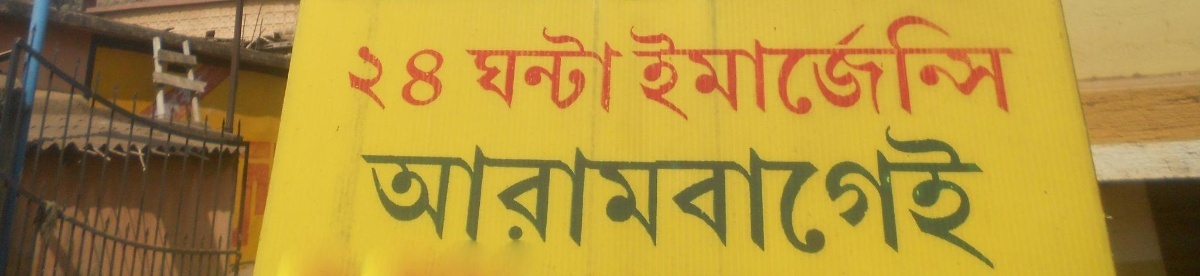text: (369, 119, 384, 269), (385, 119, 400, 269), (401, 119, 416, 269), (417, 119, 432, 269), (433, 119, 448, 269), (449, 119, 464, 269), (465, 119, 480, 269), (481, 119, 496, 269), (497, 119, 512, 269), (513, 119, 528, 269), (529, 119, 544, 269), (545, 119, 560, 269), (561, 119, 576, 269), (577, 119, 592, 269), (593, 119, 608, 269), (609, 119, 624, 269), (625, 119, 640, 269), (641, 119, 656, 269), (657, 119, 672, 269), (673, 119, 688, 269), (689, 119, 704, 269), (705, 119, 720, 269), (721, 119, 736, 269), (737, 119, 752, 269), (753, 119, 768, 269), (769, 119, 784, 269), (785, 119, 800, 269), (801, 119, 816, 269), (817, 119, 832, 269), (833, 119, 848, 269), (849, 119, 864, 269), (865, 119, 880, 269), (881, 119, 896, 269), (897, 119, 912, 269), (913, 119, 928, 269), (929, 119, 944, 269), (945, 119, 960, 269), (961, 119, 976, 269), (977, 119, 992, 269), (641, 10, 656, 124), (657, 10, 672, 124), (673, 10, 688, 124), (689, 10, 704, 124), (705, 10, 720, 124), (721, 10, 736, 124), (737, 10, 752, 124), (753, 10, 768, 124), (769, 10, 784, 124), (785, 10, 800, 124), (801, 10, 816, 124), (817, 10, 832, 124), (833, 10, 848, 124), (849, 10, 864, 124), (865, 10, 880, 124), (881, 10, 896, 124), (897, 10, 912, 124), (913, 10, 928, 124), (929, 10, 944, 124), (945, 10, 960, 124), (961, 10, 976, 124), (977, 10, 992, 124), (993, 10, 1008, 124), (1009, 10, 1023, 124), (609, 20, 625, 115), (465, 20, 480, 115), (481, 20, 496, 115), (497, 20, 512, 115), (513, 20, 528, 115), (529, 20, 544, 115), (545, 20, 560, 115), (561, 20, 576, 115), (577, 20, 592, 115), (593, 20, 608, 115), (360, 119, 368, 269), (993, 119, 1001, 269), (630, 10, 640, 124), (353, 42, 368, 115), (369, 42, 384, 115), (385, 42, 400, 115), (401, 42, 416, 115), (417, 42, 432, 115), (433, 42, 445, 115), (460, 20, 464, 115), (347, 42, 352, 115)
